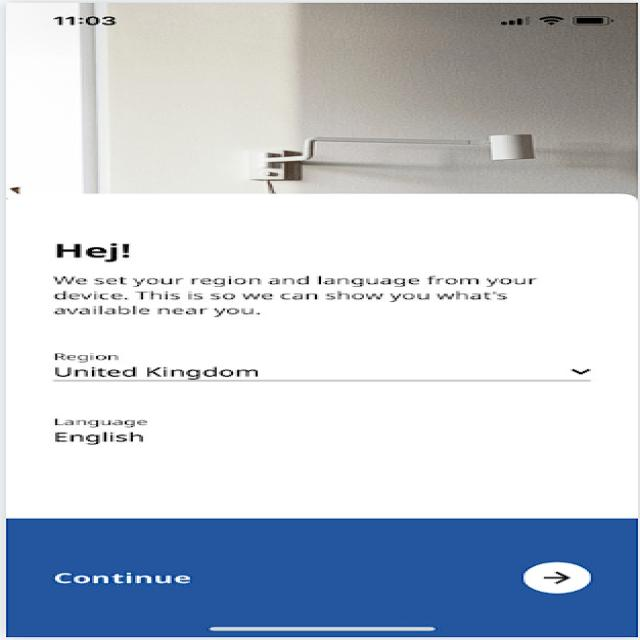column: (12, 203, 626, 635)
icon button: (512, 555, 608, 605)
image: (3, 3, 636, 191)
input: (39, 338, 624, 389)
text: (24, 223, 622, 329), (36, 558, 208, 596)
